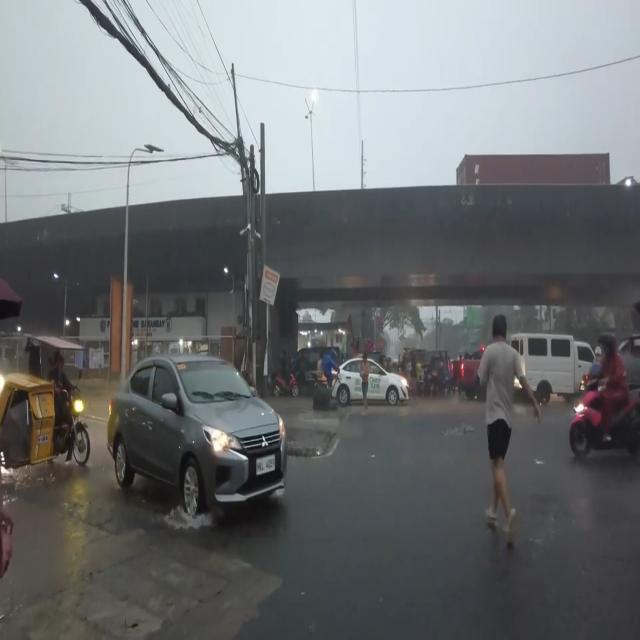half: (597, 330, 618, 363)
